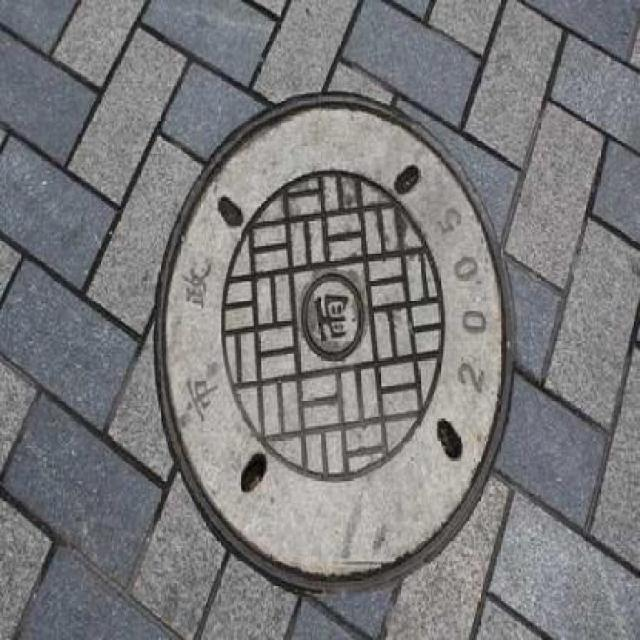Manhole: (154, 90, 514, 596)
